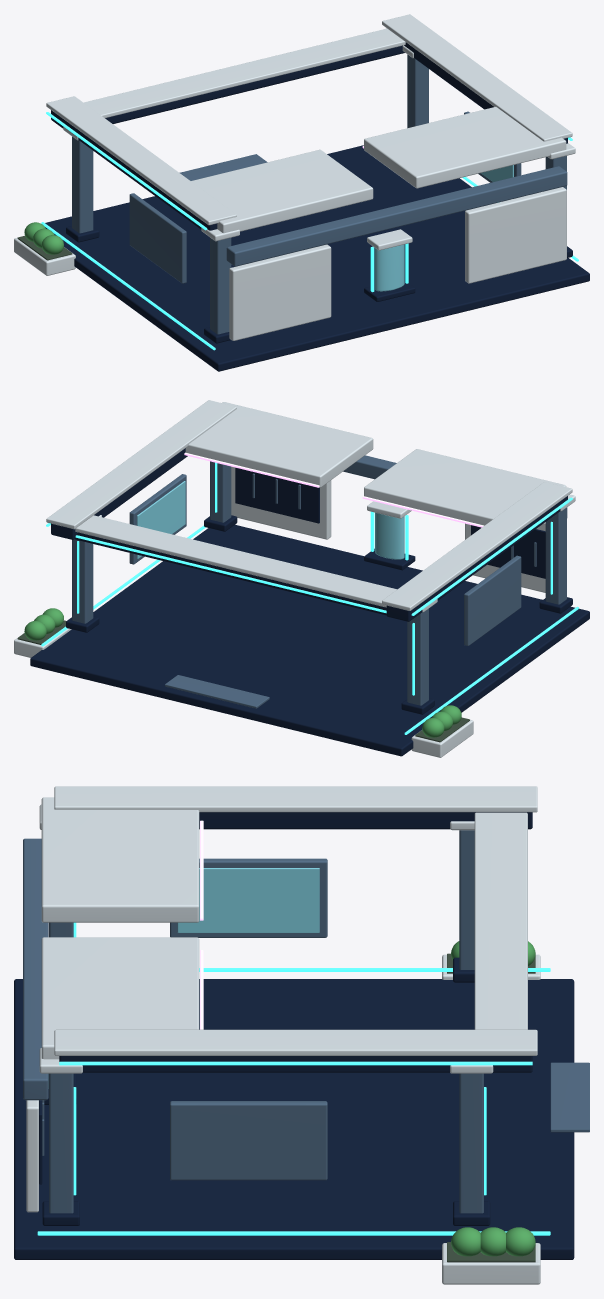
File: LAB_Tier_1.fbx
3 views of the same model, one above another, from view 1: azimuth 30°, elevation 25°; view 2: azimuth 150°, elevation 25°; view 3: azimuth 270°, elevation 25° (orthographic). The views are drawn at different scales.
Visible parts, largest first — view 1: LAB_Floor_Fascia, LAB_Roof_Back_R, LAB_Roof_Back_L, LAB_Wall_Straight_L, LAB_Wall_Straight_R, LAB_Back_Header, LAB_Entrance_HeaderCap, LAB_Roof_BeamCap_L, LAB_Roof_BeamCap_R, LAB_Window_Frame_L, LAB_Entrance_Header, LAB_Pillar_L_-9 (+11 smaller); view 2: LAB_Floor_Fascia, LAB_Roof_Back_R, LAB_Roof_Back_L, LAB_Entrance_HeaderCap, LAB_Roof_BeamCap_L, LAB_Roof_BeamCap_R, LAB_Window_Frame_L, LAB_Wall_Inset_R, LAB_Wall_Straight_R, LAB_Entrance_Header, LAB_Pillar_L_-9, LAB_Pillar_L_11.8 (+17 smaller); view 3: LAB_Floor_Fascia, LAB_Roof_Back_L, LAB_Roof_Back_R, LAB_Roof_BeamCap_R, LAB_Window_Frame_R, LAB_Roof_BeamCap_L, LAB_Entrance_HeaderCap, LAB_GlassPanel_L, LAB_Roof_Beam_R, LAB_Back_Header, LAB_Roof_Beam_L, LAB_Pillar_R_-9 (+15 smaller).
Boxes of the visible parts, box(x1,y1,x2,y2) form: LAB_Floor_Fascia: box(45, 145, 589, 371); LAB_Roof_Back_R: box(364, 106, 566, 188); LAB_Roof_Back_L: box(191, 149, 373, 233); LAB_Wall_Straight_L: box(229, 244, 331, 340); LAB_Wall_Straight_R: box(465, 187, 566, 283); LAB_Back_Header: box(226, 166, 567, 266); LAB_Entrance_HeaderCap: box(84, 28, 405, 118); LAB_Roof_BeamCap_L: box(46, 96, 236, 225); LAB_Roof_BeamCap_R: box(382, 14, 572, 141); LAB_Window_Frame_L: box(129, 193, 186, 283); LAB_Entrance_Header: box(105, 45, 404, 123); LAB_Pillar_L_-9: box(72, 136, 93, 233); LAB_Floor_Fascia: box(30, 524, 589, 756); LAB_Roof_Back_R: box(185, 402, 373, 487); LAB_Roof_Back_L: box(364, 449, 566, 525); LAB_Entrance_HeaderCap: box(75, 515, 396, 607); LAB_Roof_BeamCap_L: box(382, 482, 572, 610); LAB_Roof_BeamCap_R: box(46, 400, 236, 529); LAB_Window_Frame_L: box(464, 555, 521, 645); LAB_Wall_Inset_R: box(235, 467, 319, 523); LAB_Wall_Straight_R: box(231, 466, 331, 539); LAB_Entrance_Header: box(75, 532, 386, 615); LAB_Pillar_L_-9: box(407, 609, 428, 705); LAB_Pillar_L_11.8: box(545, 508, 566, 604); LAB_Floor_Fascia: box(14, 979, 574, 1259); LAB_Roof_Back_L: box(41, 797, 199, 922); LAB_Roof_Back_R: box(41, 937, 199, 1059); LAB_Roof_BeamCap_R: box(54, 1029, 537, 1055); LAB_Window_Frame_R: box(170, 1101, 327, 1180); LAB_Roof_BeamCap_L: box(54, 786, 537, 812); LAB_Entrance_HeaderCap: box(474, 812, 527, 1029); LAB_GlassPanel_L: box(177, 868, 319, 932); LAB_Roof_Beam_R: box(59, 1056, 532, 1072); LAB_Back_Header: box(23, 838, 48, 1100); LAB_Roof_Beam_L: box(199, 812, 532, 829); LAB_Pillar_R_-9: box(459, 1073, 483, 1213).
Size of the model in its own units: 3720 by 1188 by 2920.
